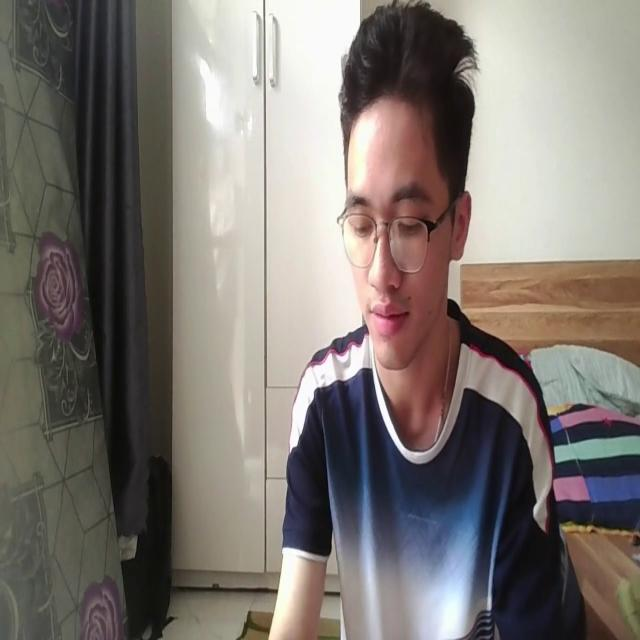student: (245, 1, 584, 640)
